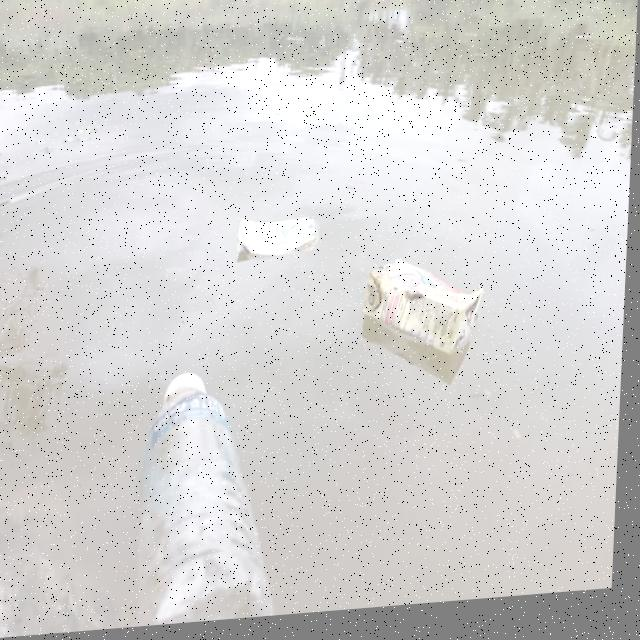paper: (355, 256, 494, 367), (228, 209, 328, 280)
waterbottle: (133, 351, 286, 630)
